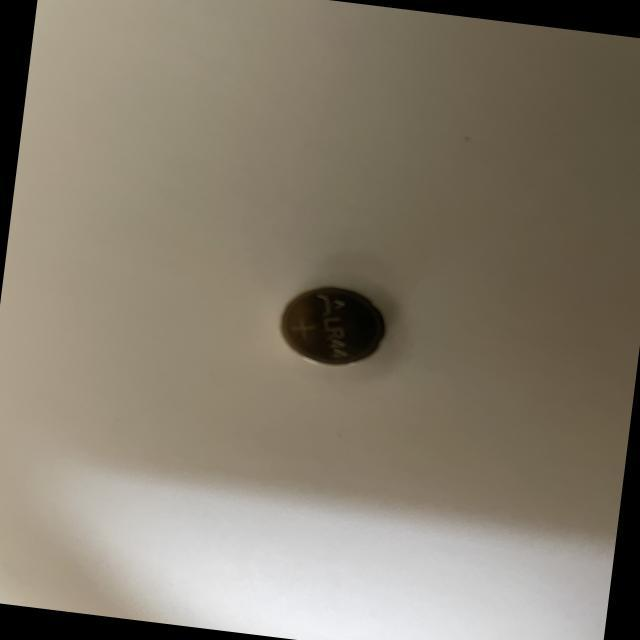COIN: (273, 278, 392, 374)
